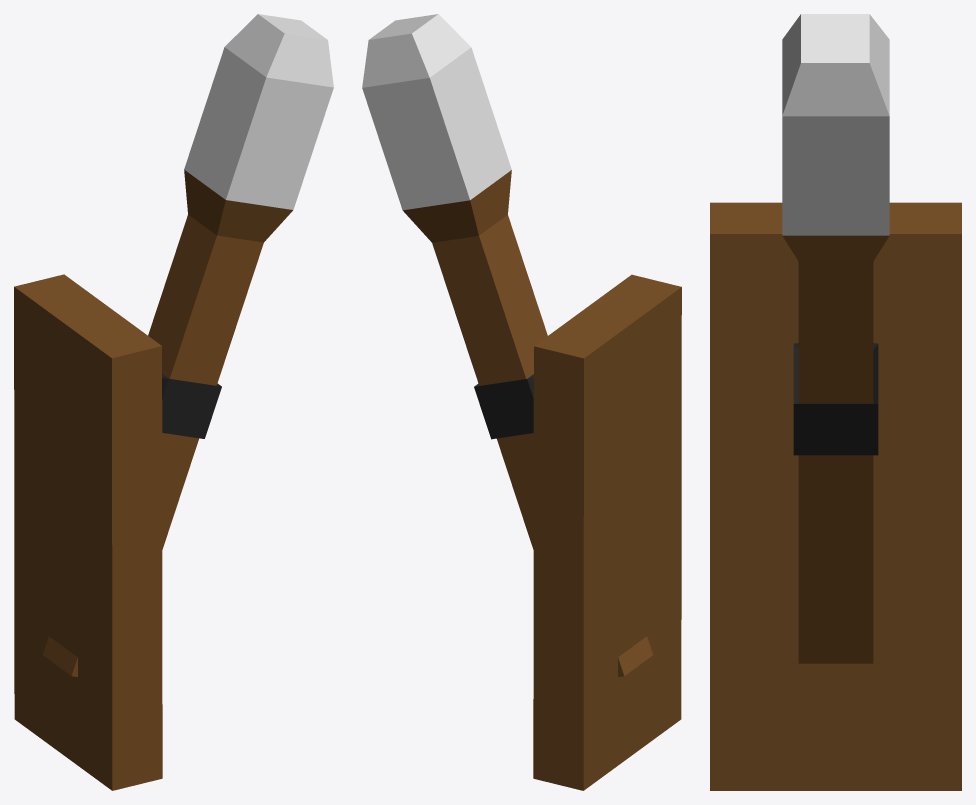
File: TorchWithHolder01.fbx
3 renders of one model, left to right at view 1: azimuth 30°, elevation 25°; view 2: azimuth 150°, elevation 25°; view 3: azimuth 270°, elevation 25°, orthographic. The views are drawn at different scales.
Visible parts, largest first — view 1: TorchWithHolder01; view 2: TorchWithHolder01; view 3: TorchWithHolder01.
Part boxes in pixels (x1=…): TorchWithHolder01: x1=14, y1=14, x2=333, y2=790; TorchWithHolder01: x1=362, y1=14, x2=681, y2=790; TorchWithHolder01: x1=710, y1=14, x2=961, y2=790.
Bounding box in the file's own units: 84.45 × 214 × 55.66.
